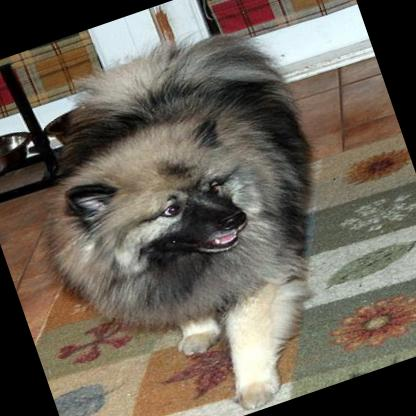keeshond: (0, 6, 381, 416)
